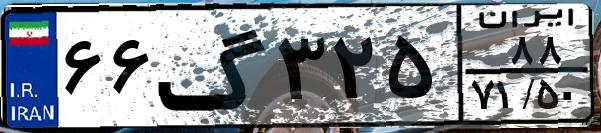0: (560, 70, 590, 125)
1: (495, 70, 520, 125)
2: (330, 28, 385, 110)
3: (270, 28, 330, 110)
5: (385, 28, 445, 110), (535, 70, 560, 125)
6: (57, 26, 110, 100), (110, 28, 156, 98)
7: (470, 70, 495, 125)
8: (537, 27, 568, 80), (508, 27, 537, 80)
گ: (156, 12, 270, 120)
